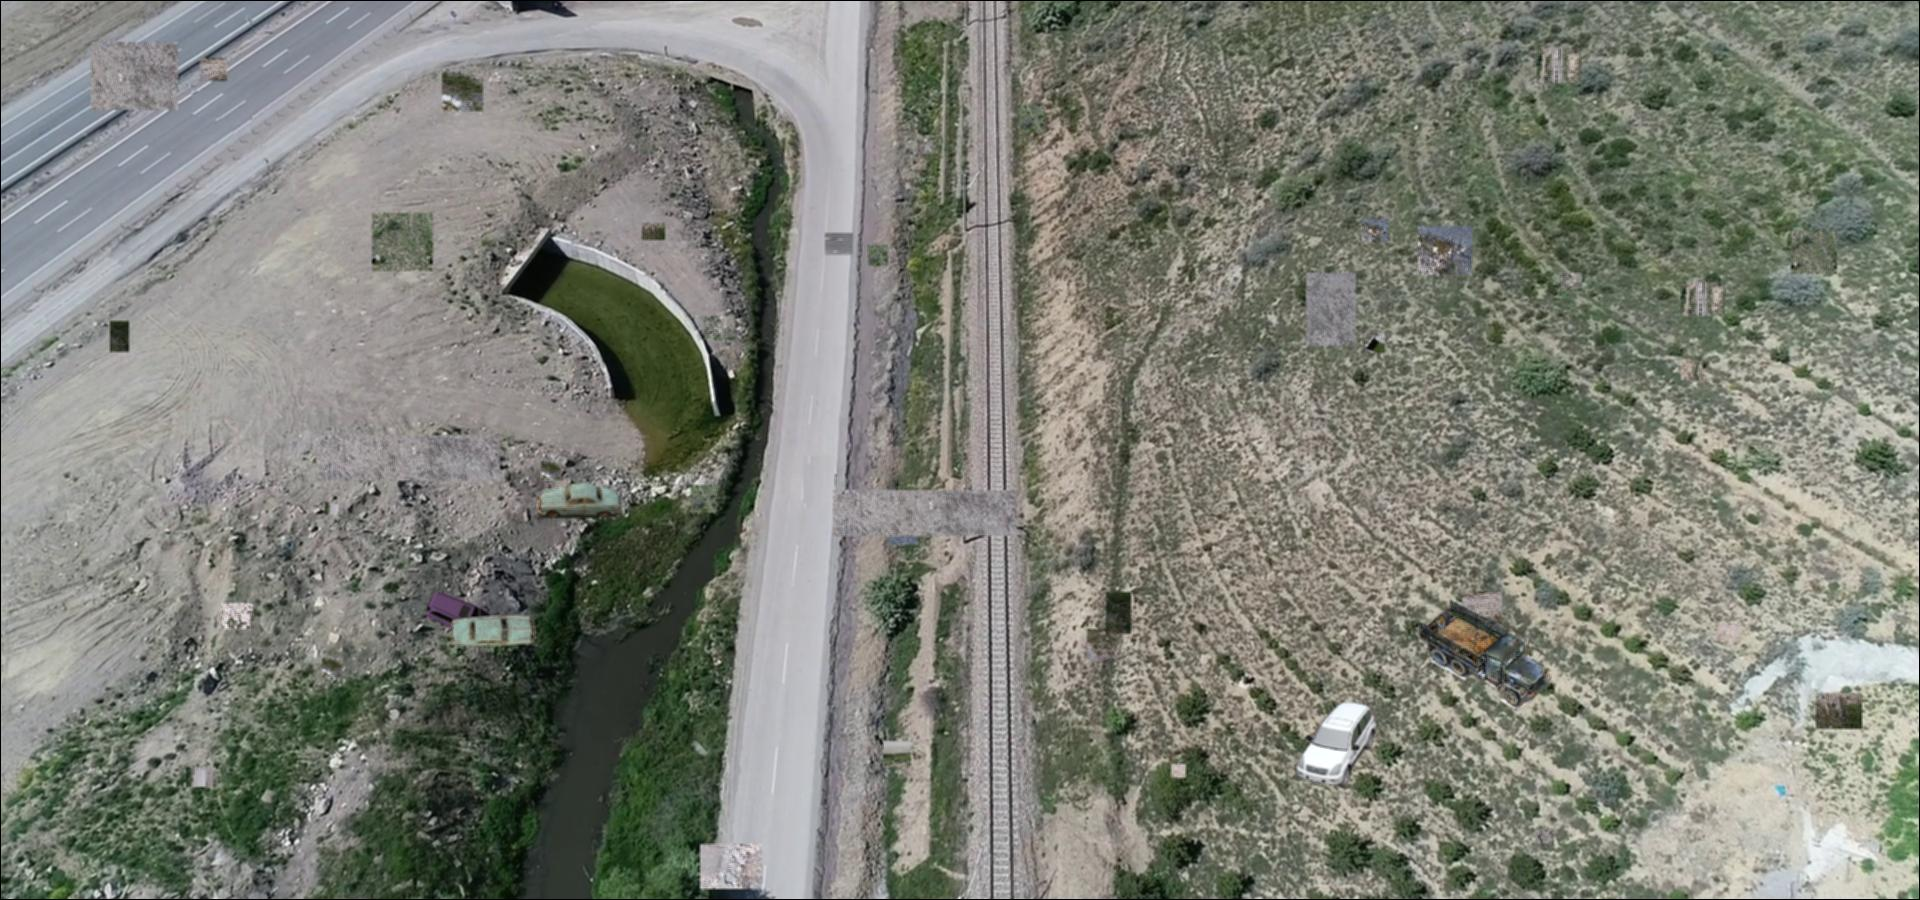arac: (1417, 598, 1551, 709), (1291, 699, 1382, 795), (424, 589, 503, 647), (535, 482, 621, 518), (447, 613, 538, 647)
